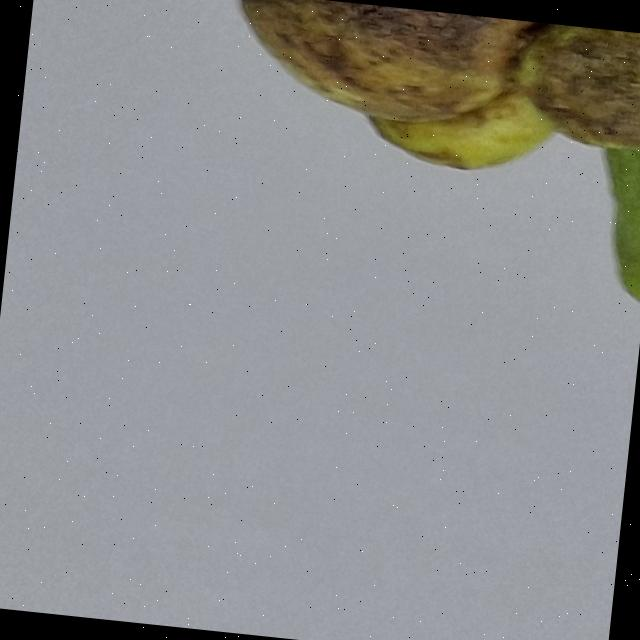mangosteen: (0, 0, 640, 373)
